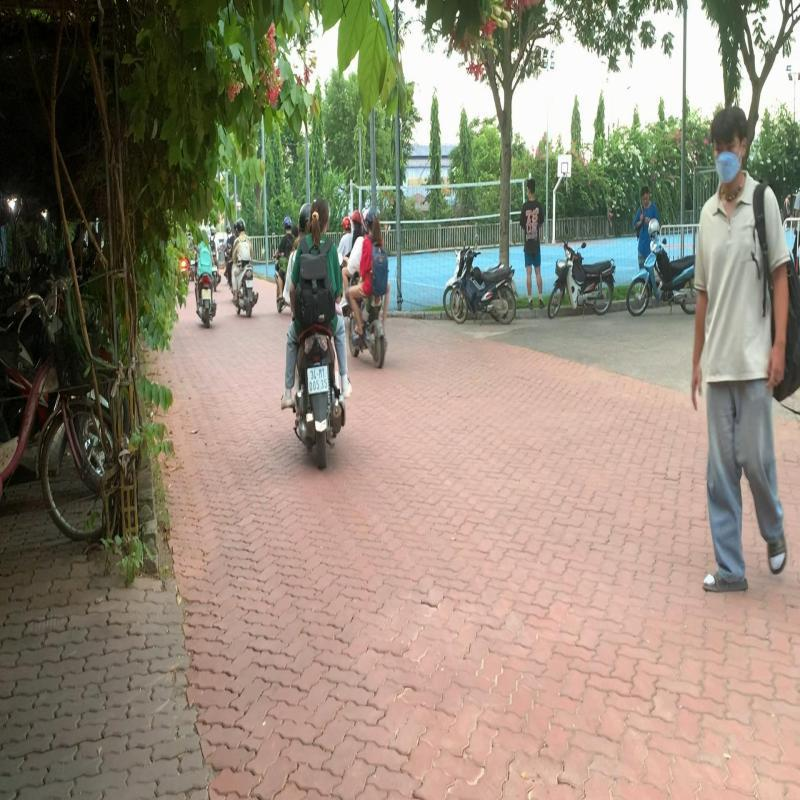nohelmet: (310, 192, 332, 236)
